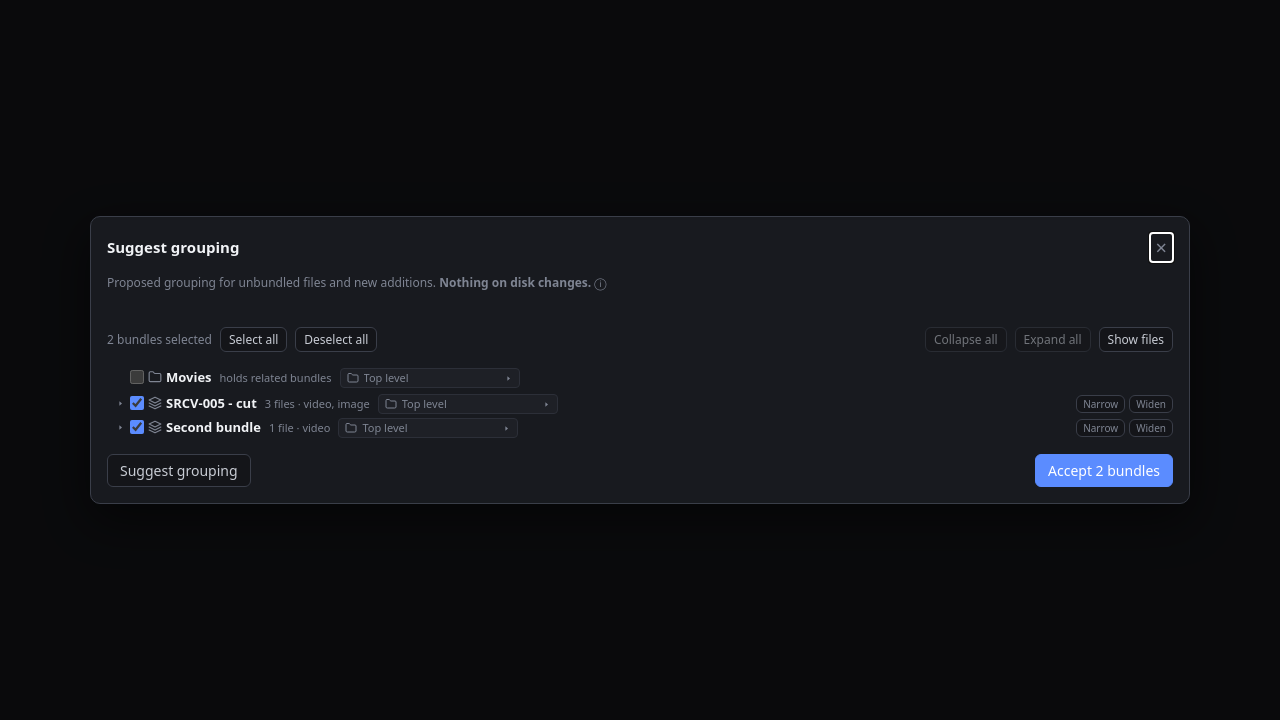
Test: double-click renames a bundle suggestion and persists it
Double-click the button with aria-label "Rename bundle suggestion SRCV-005 - cut".
double_click(211, 403)  # box [166,394,257,412]
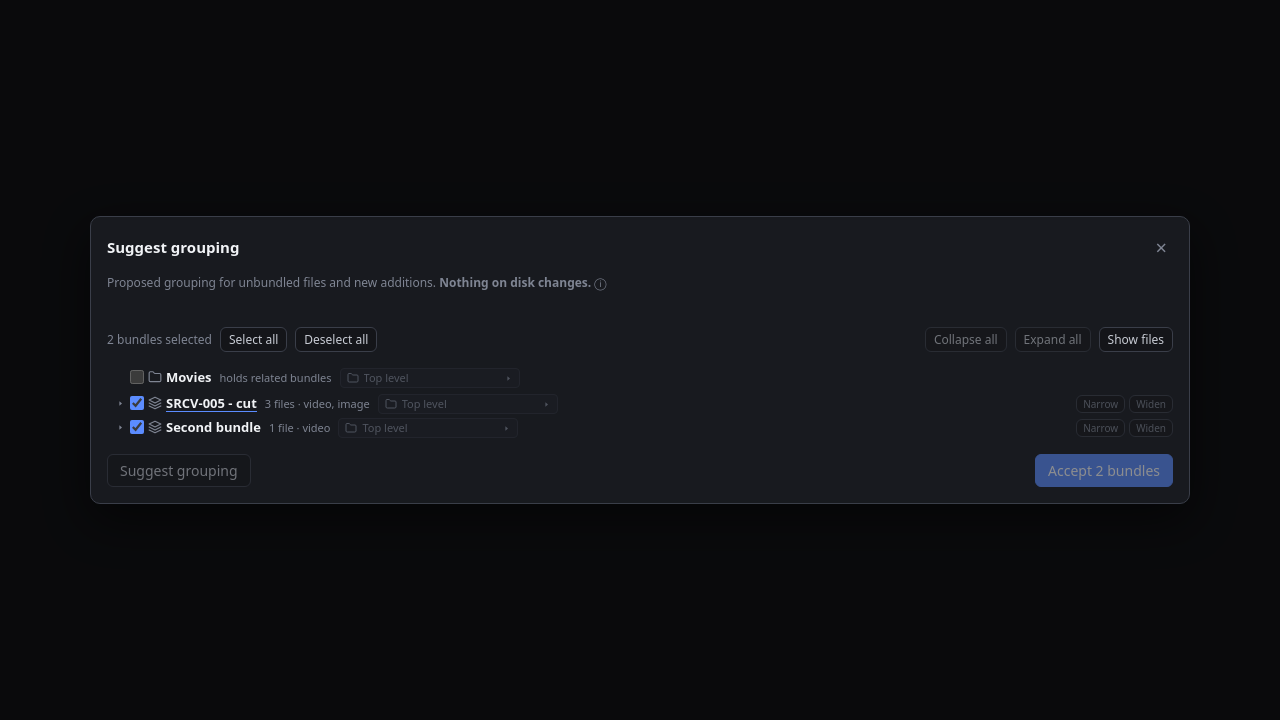
Replace the text in the text box named "Bundle suggestion title" with "SRCV-005" at (211, 403), box [166,394,257,412]
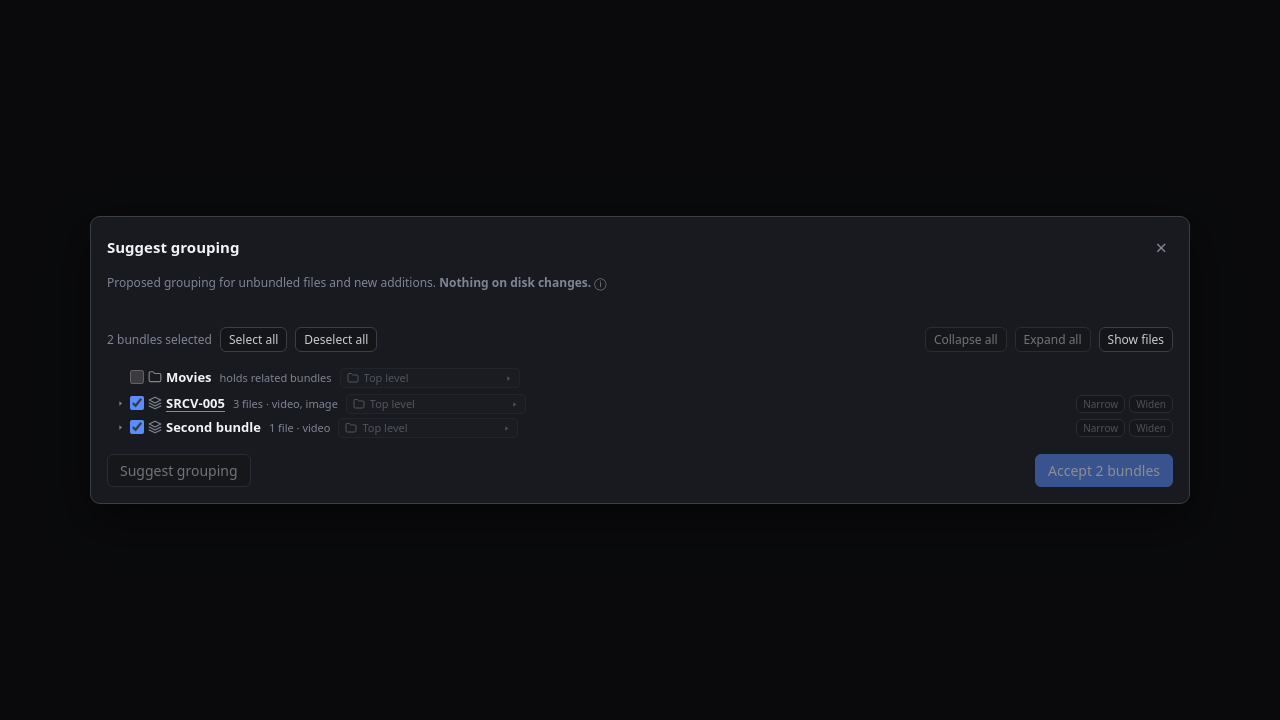
Press Enter in the text box named "Bundle suggestion title", box [166,394,225,412]
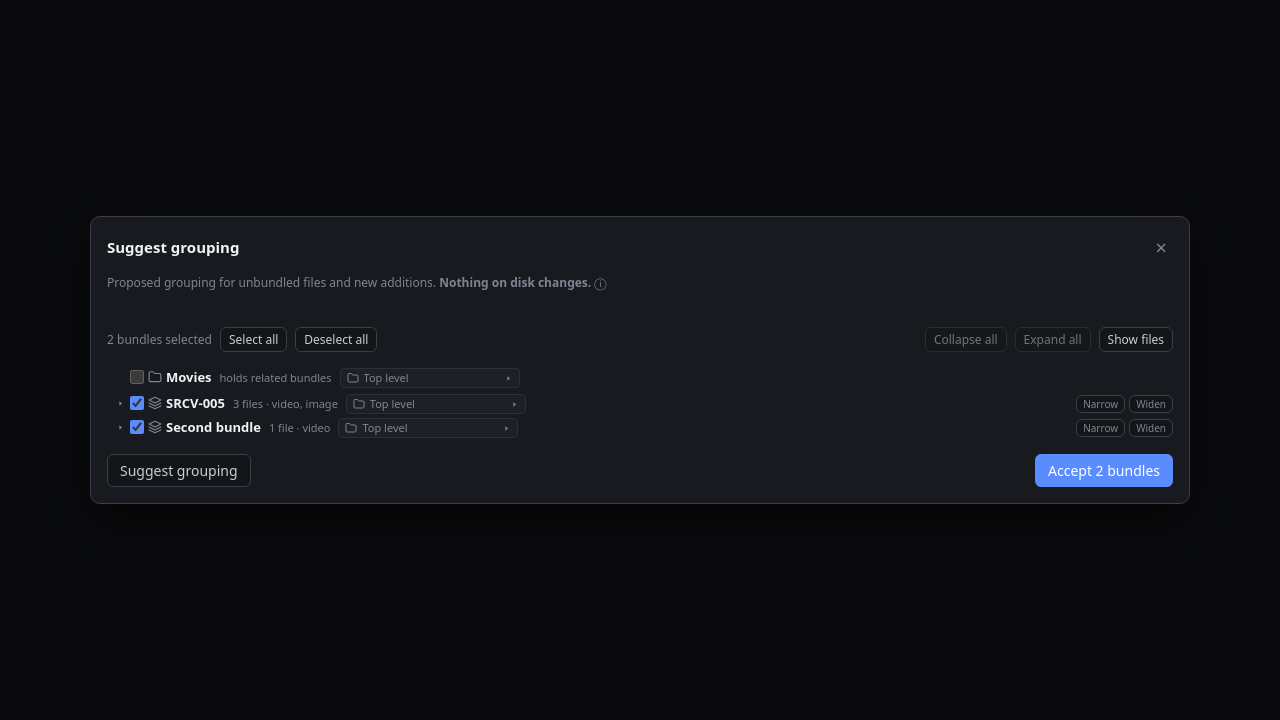
Result: the button with aria-label "Rename bundle suggestion SRCV-005" is shown at [166,394,225,412]
